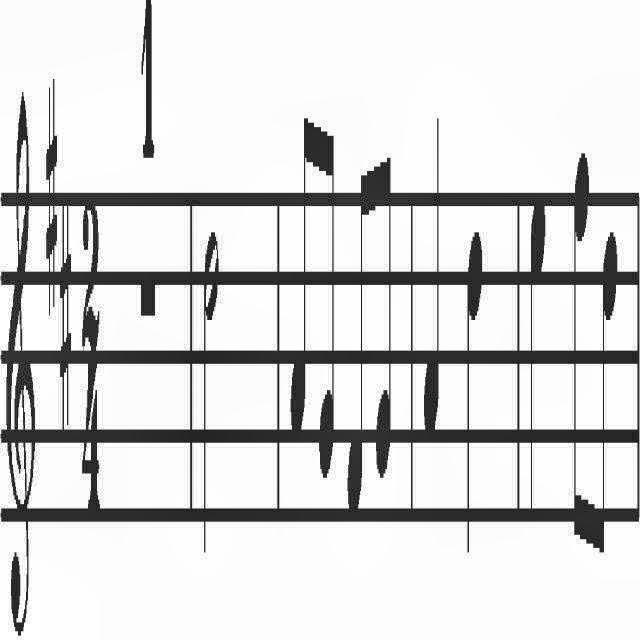Bass-clef: (6, 85, 36, 627)
Diez: (58, 194, 74, 438), (44, 80, 58, 320)
Eighth-note: (593, 210, 619, 558), (345, 133, 367, 519), (288, 90, 312, 440), (571, 136, 591, 554), (315, 114, 337, 478), (374, 118, 394, 490)
Half-note: (202, 217, 222, 561)
Quarter-note: (464, 215, 484, 559), (528, 193, 548, 522), (423, 99, 441, 441)
